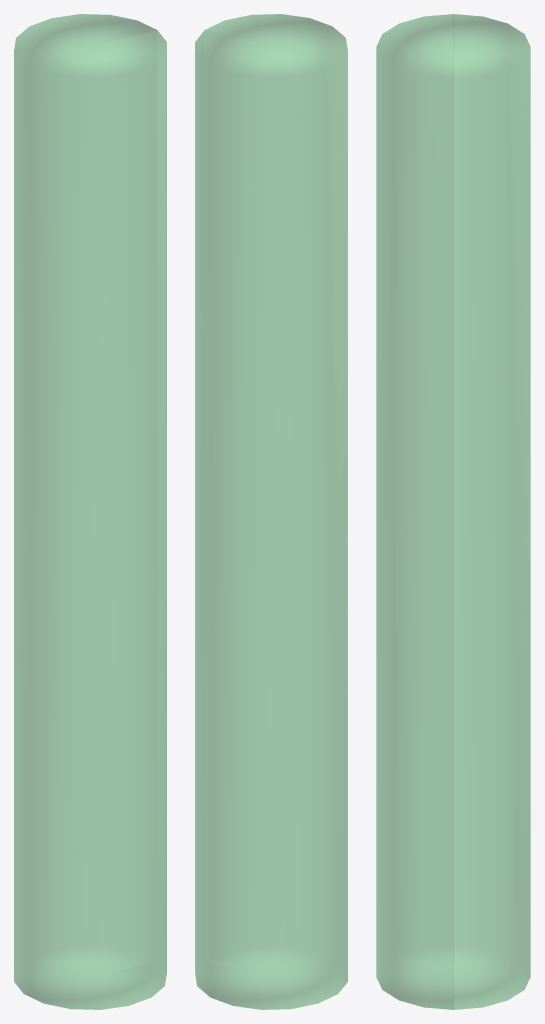
File: prop_banana_tree_col.glb
The picture shows the model from 3 angles, left to right: view 1: azimuth 30°, elevation 25°; view 2: azimuth 150°, elevation 25°; view 3: azimuth 270°, elevation 25°; orthographic projection.
Parts seen in each view (by area): view 1: prop_banana_tree_col_0; view 2: prop_banana_tree_col_0; view 3: prop_banana_tree_col_0.
Part boxes in pixels (x1,y1,x2,y2): prop_banana_tree_col_0: [14, 14, 166, 1009]; prop_banana_tree_col_0: [195, 14, 347, 1009]; prop_banana_tree_col_0: [376, 14, 530, 1009].
Bounding box in the file's own units: 0.2918 × 1.95 × 0.2918.
